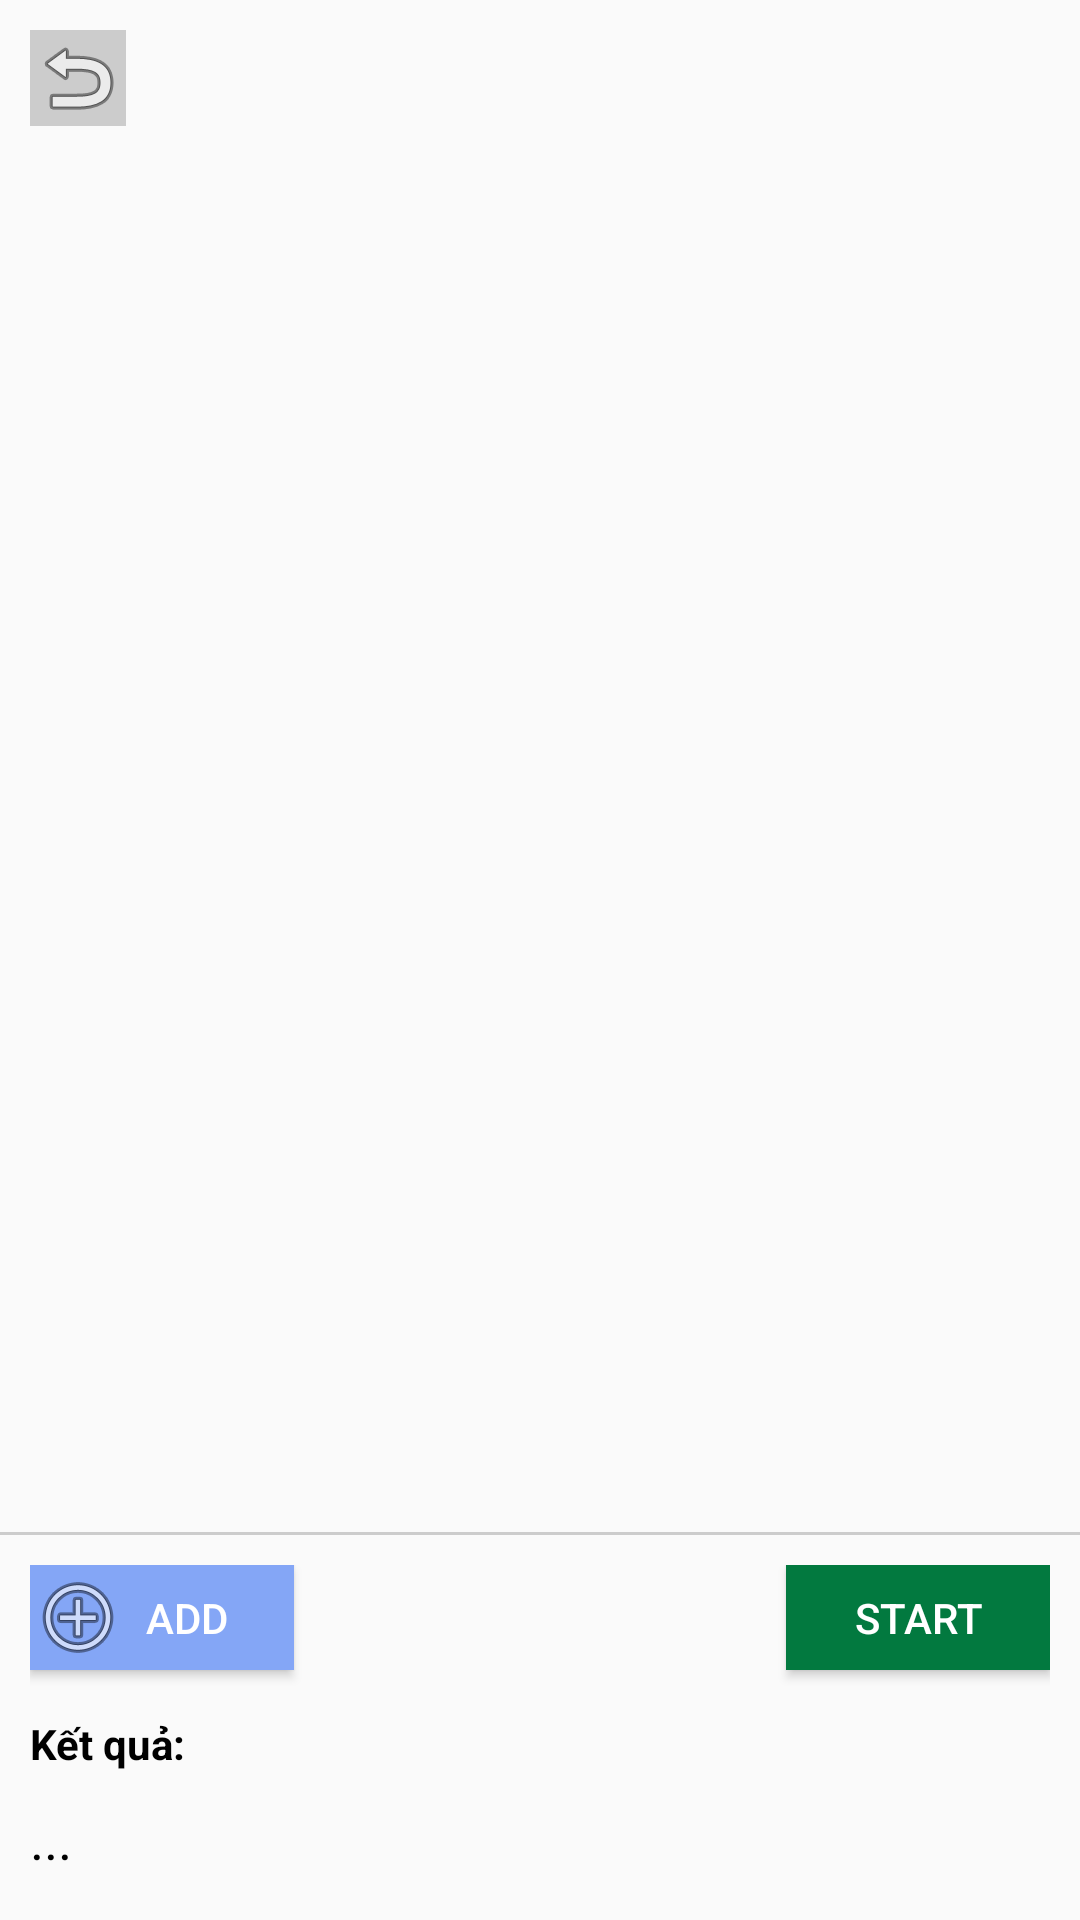

Named icons in this screenshot (1080 × 1920) and their centers, point (x, y):
revert: point (78, 78)
